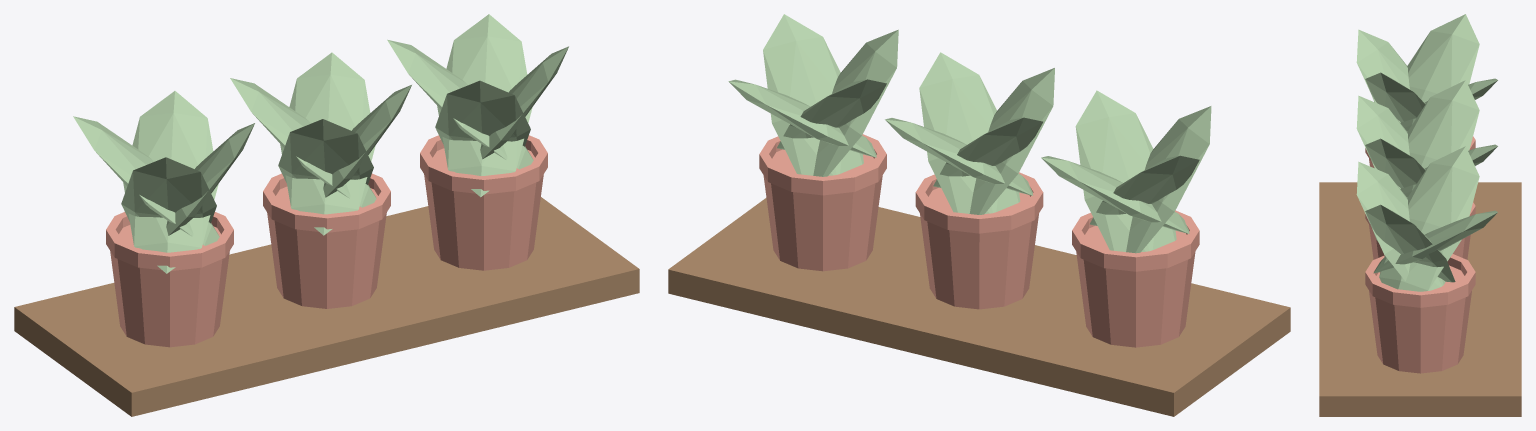
File: cozy-home-interiors-herb-pots-c9f9ebc8.glb
3 renders of one model, left to right at view 1: azimuth 30°, elevation 25°; view 2: azimuth 150°, elevation 25°; view 3: azimuth 270°, elevation 25°, orthographic. The views are drawn at different scales.
Visible parts, largest first — view 1: herb-pots; view 2: herb-pots; view 3: herb-pots.
Part boxes in pixels (x1,y1,x2,y2): herb-pots: [14, 14, 639, 416]; herb-pots: [668, 14, 1290, 416]; herb-pots: [1319, 14, 1521, 416].
Bounding box in the file's own units: 0.55 × 0.2403 × 0.22.
